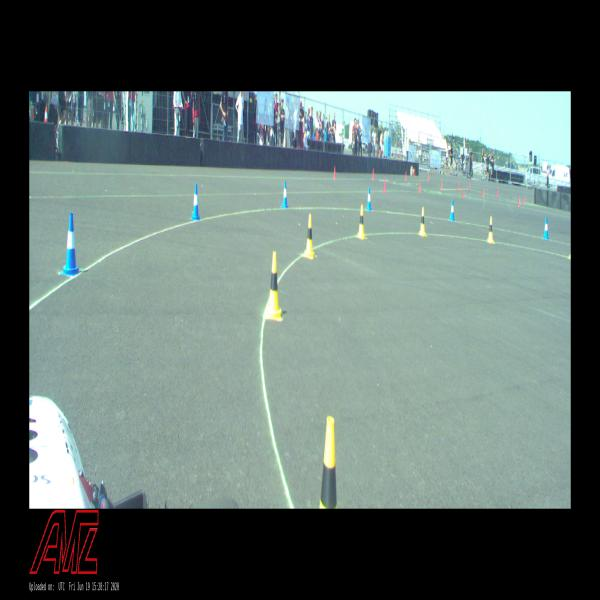blue_cone: (60, 212, 80, 276), (191, 184, 199, 220), (281, 181, 288, 208), (543, 218, 549, 239), (366, 187, 371, 211), (450, 199, 454, 220)
unknown_cone: (383, 179, 386, 192), (418, 180, 421, 193), (333, 166, 336, 179), (372, 168, 374, 180), (462, 186, 464, 197), (518, 197, 520, 207), (405, 171, 407, 181), (440, 180, 442, 190), (457, 180, 459, 190), (496, 187, 498, 197), (522, 194, 524, 204), (482, 187, 484, 196), (469, 180, 470, 190), (428, 172, 429, 181)
yellow_cone: (319, 416, 337, 508), (266, 252, 282, 320), (304, 214, 314, 258), (357, 205, 365, 239), (419, 208, 426, 235), (487, 216, 494, 242)
